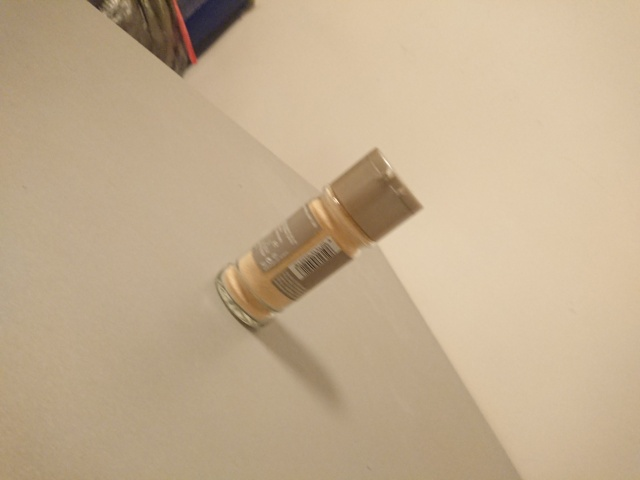Kotanyi Garlic Granules 70g: (209, 143, 425, 335)
